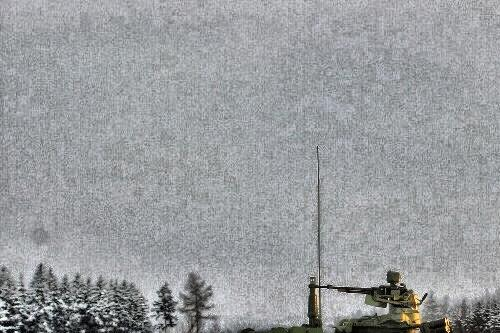tanks: (329, 272, 451, 333), (243, 286, 327, 333)
